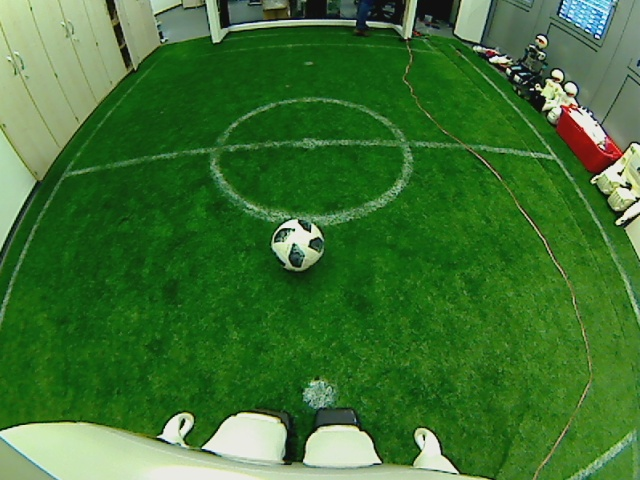ball: (269, 215, 325, 272)
